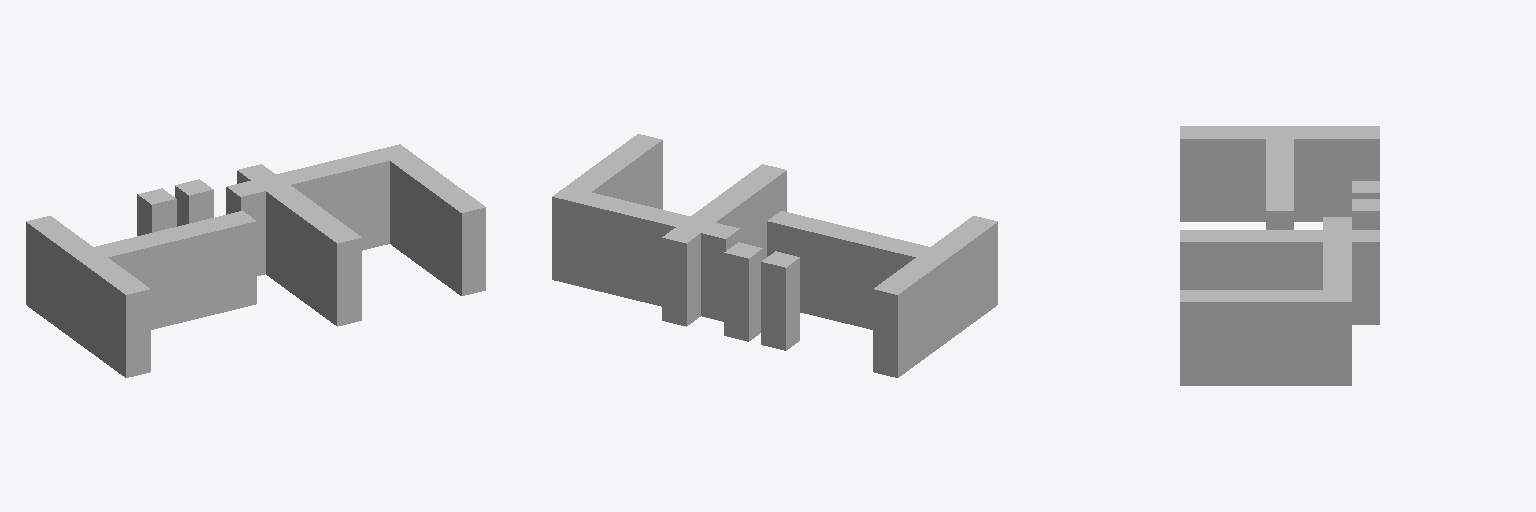
Rendered from DokaText.obj.
3 renders of one model, left to right at view 1: azimuth 30°, elevation 25°; view 2: azimuth 150°, elevation 25°; view 3: azimuth 270°, elevation 25°, orthographic.
Parts seen in each view (by area): view 1: テキスト; view 2: テキスト; view 3: テキスト.
Part boxes in pixels (x1,y1,x2,y2): テキスト: (26,144,485,377); テキスト: (552,134,997,377); テキスト: (1180,126,1379,385).
Size of the model in its own units: 1.81 by 0.4 by 0.875.